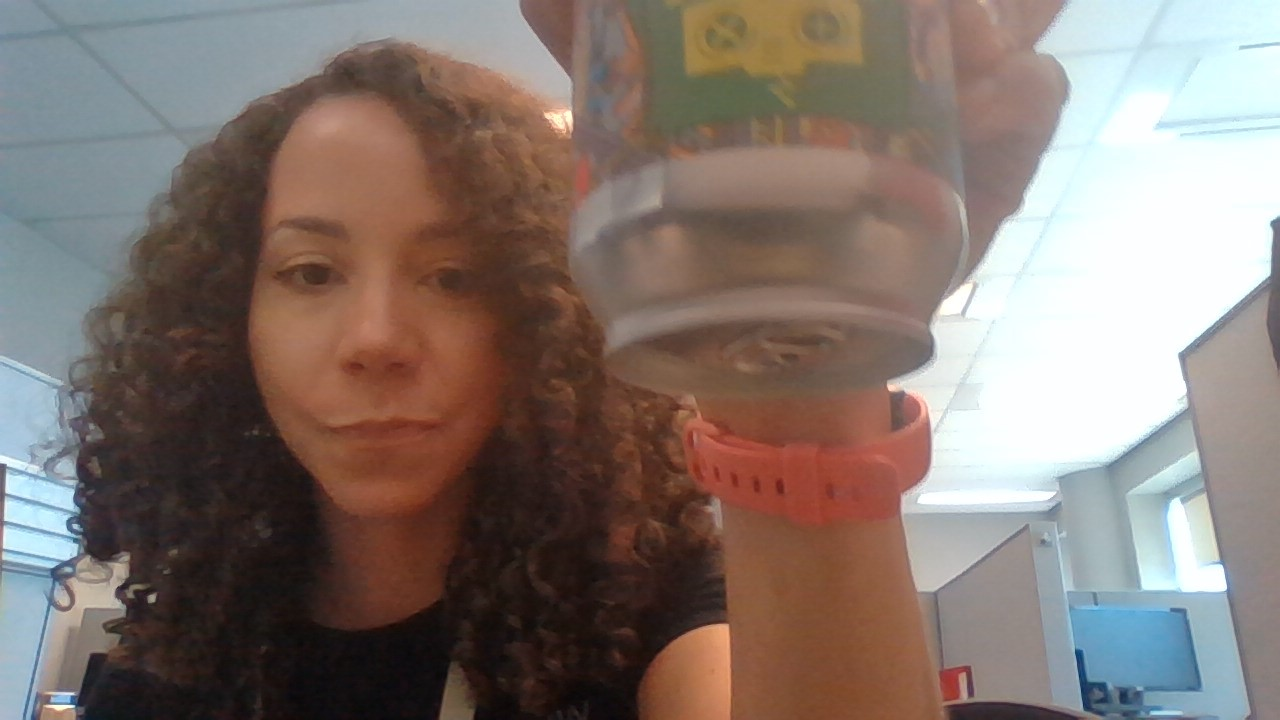Good Robot: (671, 3, 901, 113)
